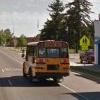Bus: (19, 36, 72, 82)
